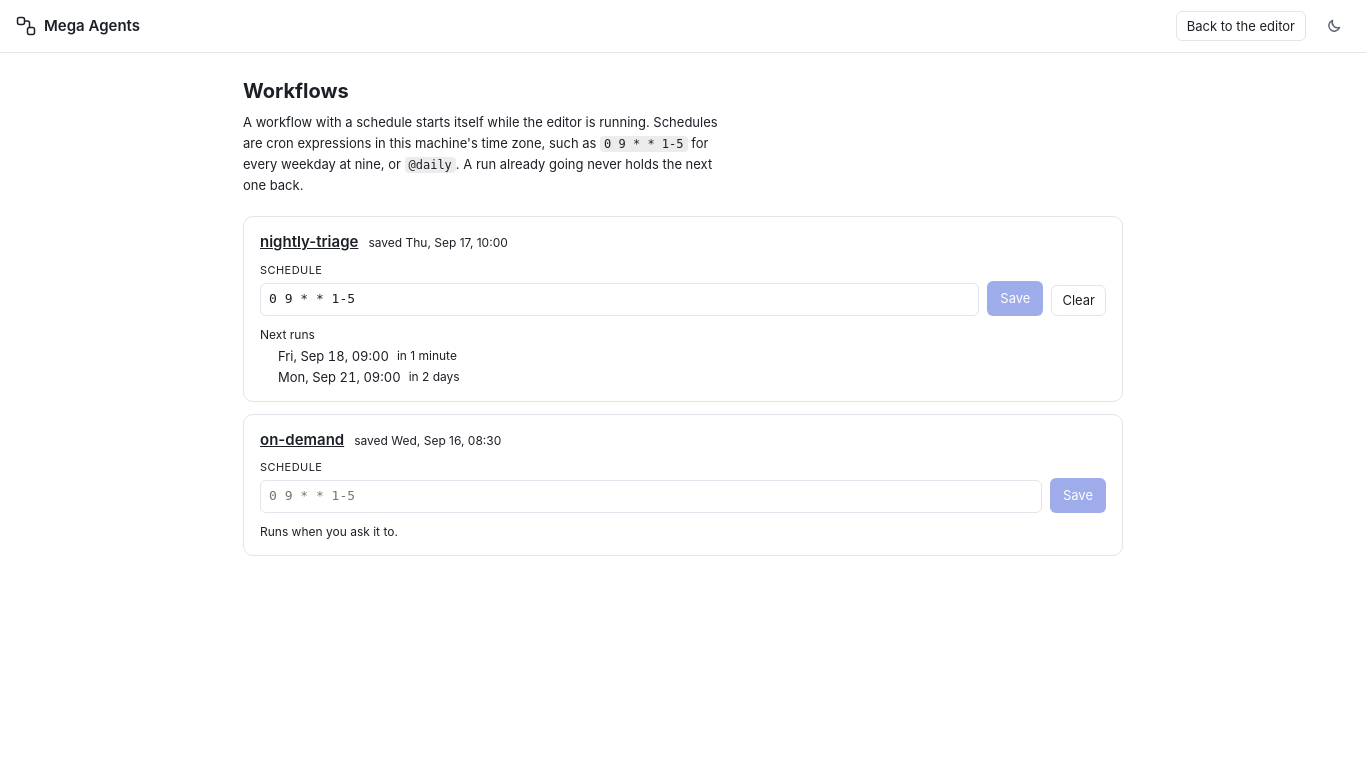
the workflows page › clearing a schedule takes the workflow off it
Check: the link "nightly-triage" is shown, box 260,231 -> 358,253
Click the button with aria-label "Clear schedule for nightly-triage" at (1079, 300), box 1052,285 -> 1106,316
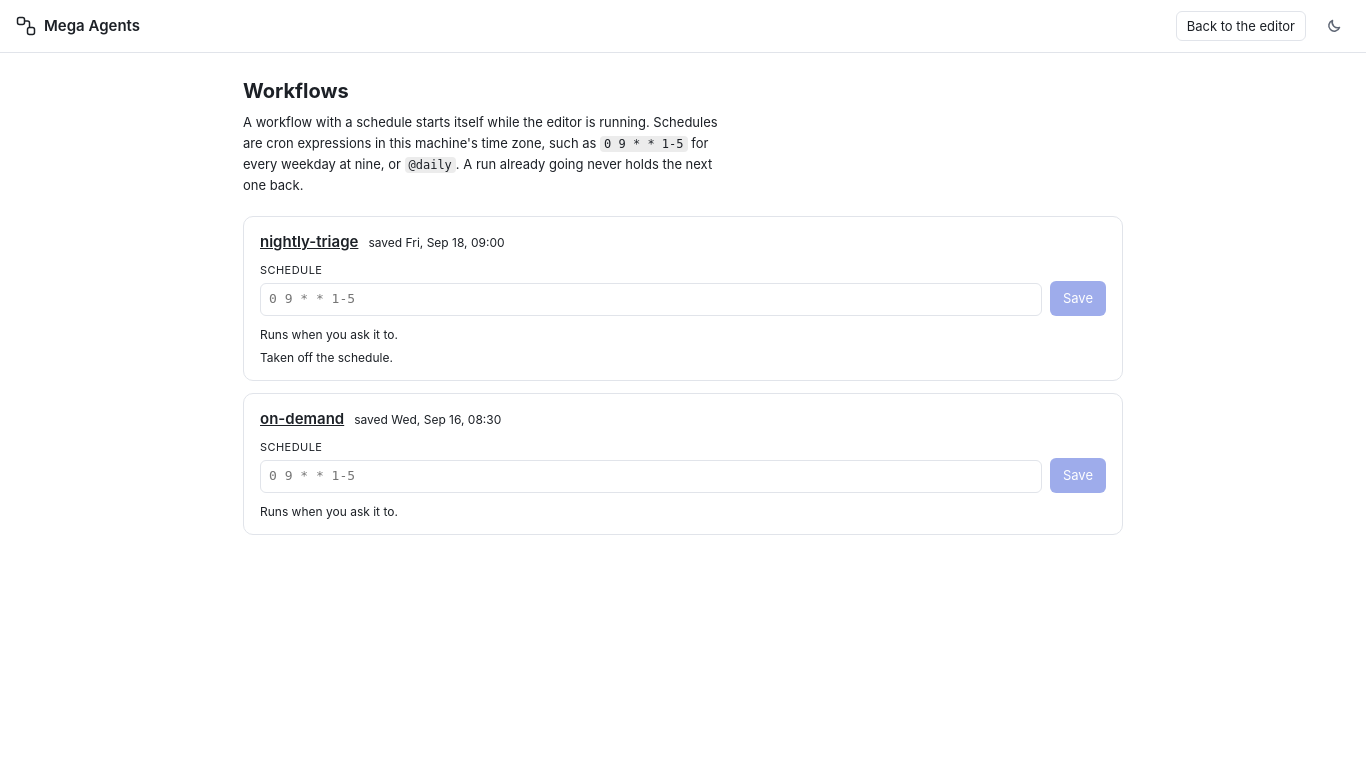
Check: the field named "Schedule for nightly-triage" is empty, box 260,283 -> 1042,316
